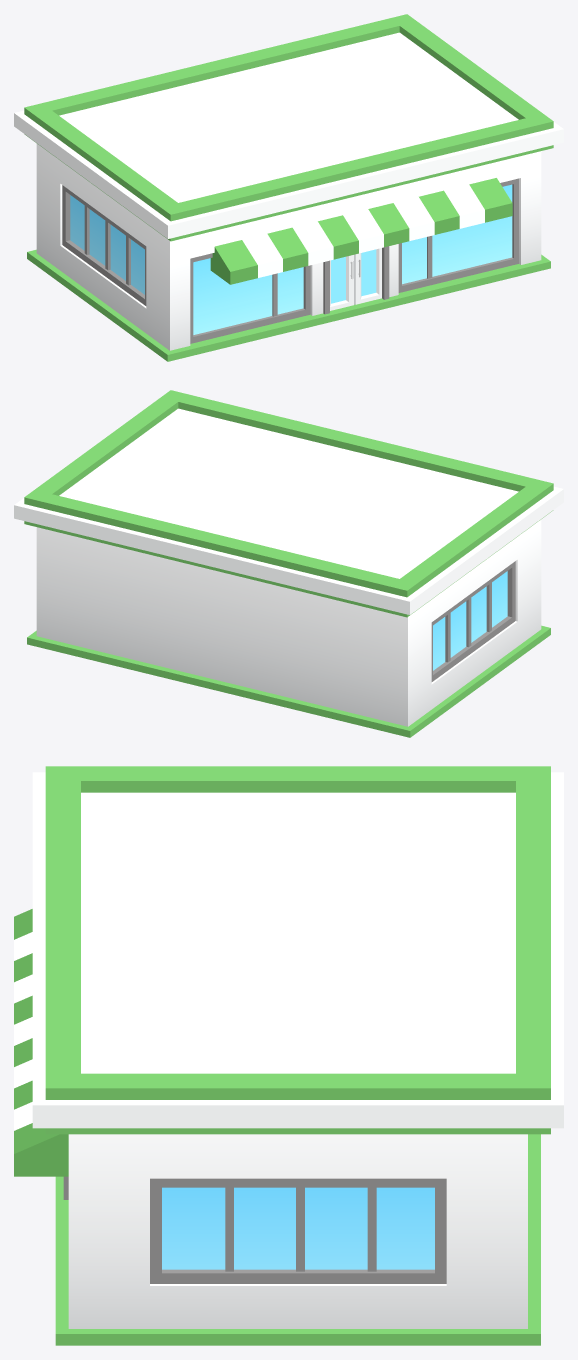
The model's file is Building_Snack_05.glb.
3 views of the same model, one above another, from view 1: azimuth 30°, elevation 25°; view 2: azimuth 150°, elevation 25°; view 3: azimuth 270°, elevation 25° (orthographic). The views are drawn at different scales.
Parts seen in each view (by area): view 1: Building_Snack_05; view 2: Building_Snack_05; view 3: Building_Snack_05.
Part boxes in pixels (x1,y1,x2,y2): Building_Snack_05: (14,14,563,361); Building_Snack_05: (14,390,563,737); Building_Snack_05: (14,766,563,1345).
Bounding box in the file's own units: 12.26 × 4.41 × 8.55.
Materials: 1 (1 with a texture image).
